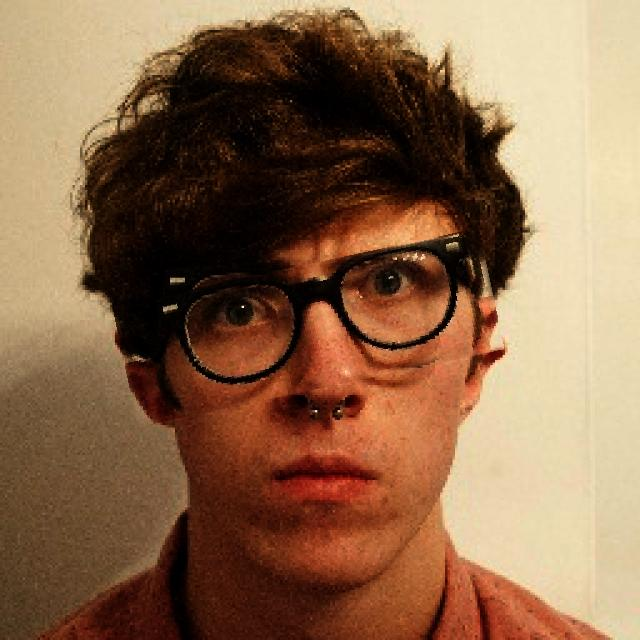glasses: (117, 247, 500, 408)
